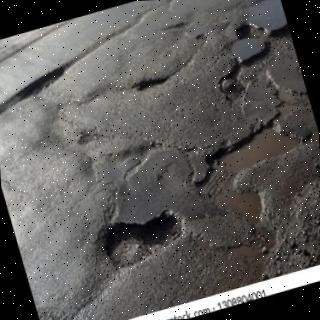pothole: (194, 120, 300, 227), (220, 23, 294, 100), (105, 210, 181, 270)
